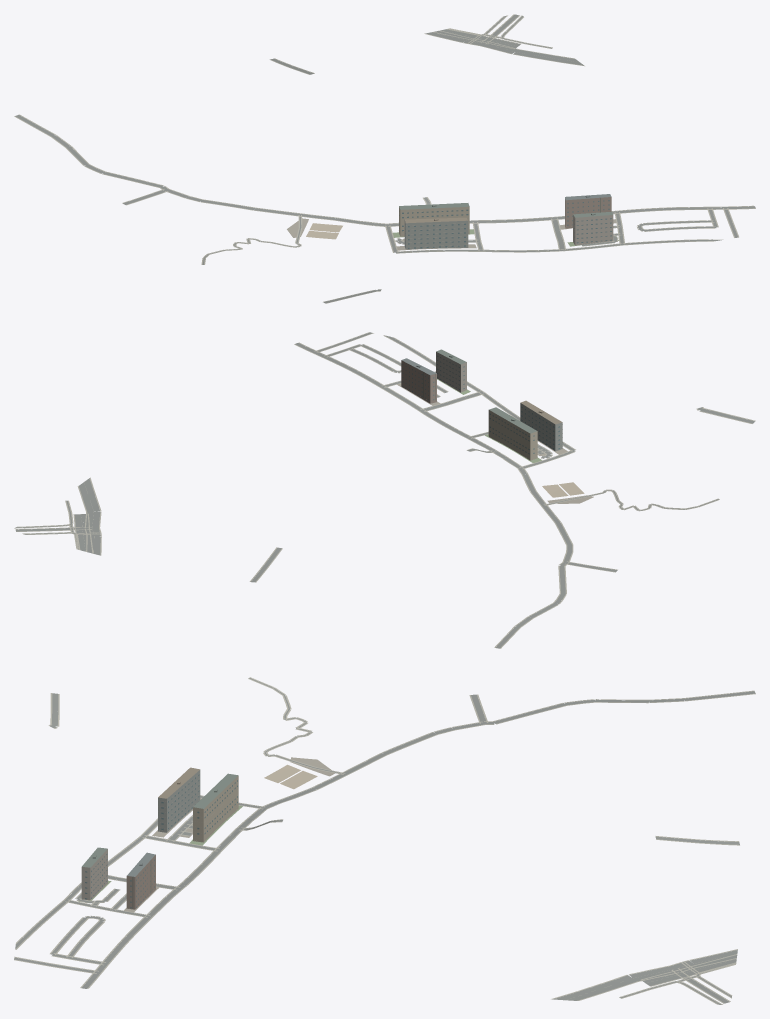
3 views of the same model, one above another, from view 1: azimuth 30°, elevation 25°; view 2: azimuth 150°, elevation 25°; view 3: azimuth 270°, elevation 25° (orthographic). The views are drawn at different scales.
Parts seen in each view (by area): view 1: context-osm-roads, context-osm-buildings, context-osm-sidewalks, context-building-plinths; view 2: context-osm-roads, context-osm-buildings, context-osm-sidewalks, context-building-plinths; view 3: context-osm-roads, context-osm-sidewalks, context-osm-buildings, context-building-plinths.
Boxes of the visible parts, <box> form: context-osm-roads: <box>15,14,755,303</box>; context-osm-buildings: <box>399,194,613,249</box>; context-osm-sidewalks: <box>14,14,755,303</box>; context-building-plinths: <box>287,218,618,250</box>; context-osm-roads: <box>15,332,754,648</box>; context-osm-buildings: <box>401,349,562,459</box>; context-osm-sidewalks: <box>14,332,755,648</box>; context-building-plinths: <box>397,378,593,503</box>; context-osm-roads: <box>14,678,755,1004</box>; context-osm-sidewalks: <box>14,677,755,1004</box>; context-osm-buildings: <box>81,767,238,909</box>; context-building-plinths: <box>78,757,334,912</box>.
Size of the model in its own units: 733 by 43.76 by 741.
